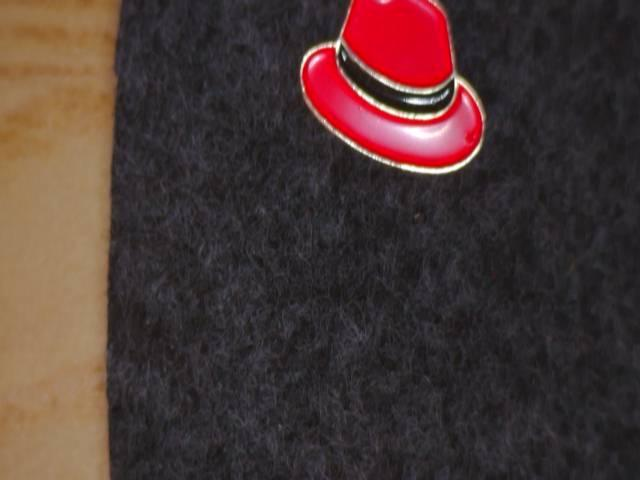Red-Hat: (277, 0, 496, 197)
